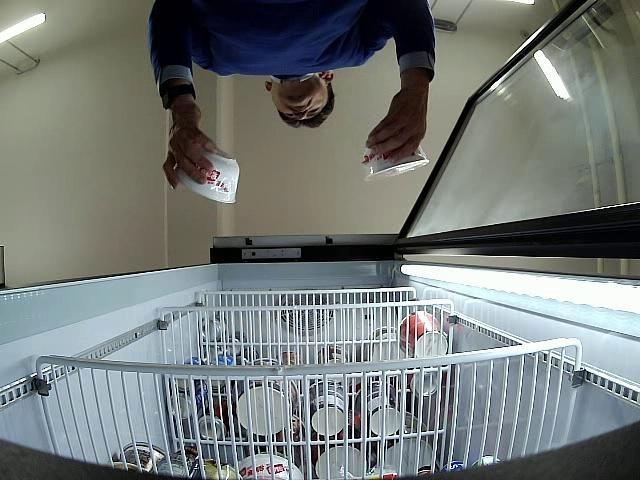09_yukGaeJang: (175, 148, 239, 204), (364, 146, 429, 181)
